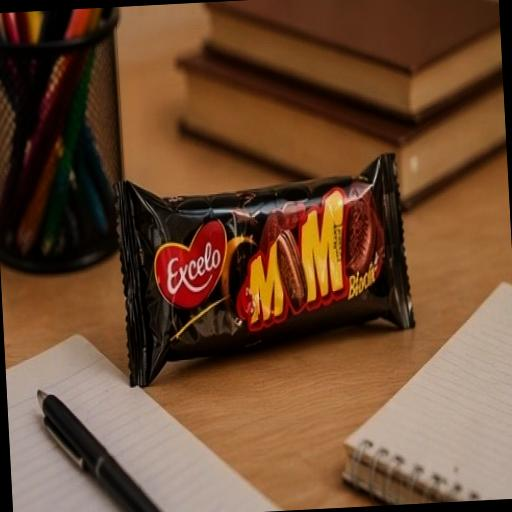MOMO: (88, 116, 429, 421)
